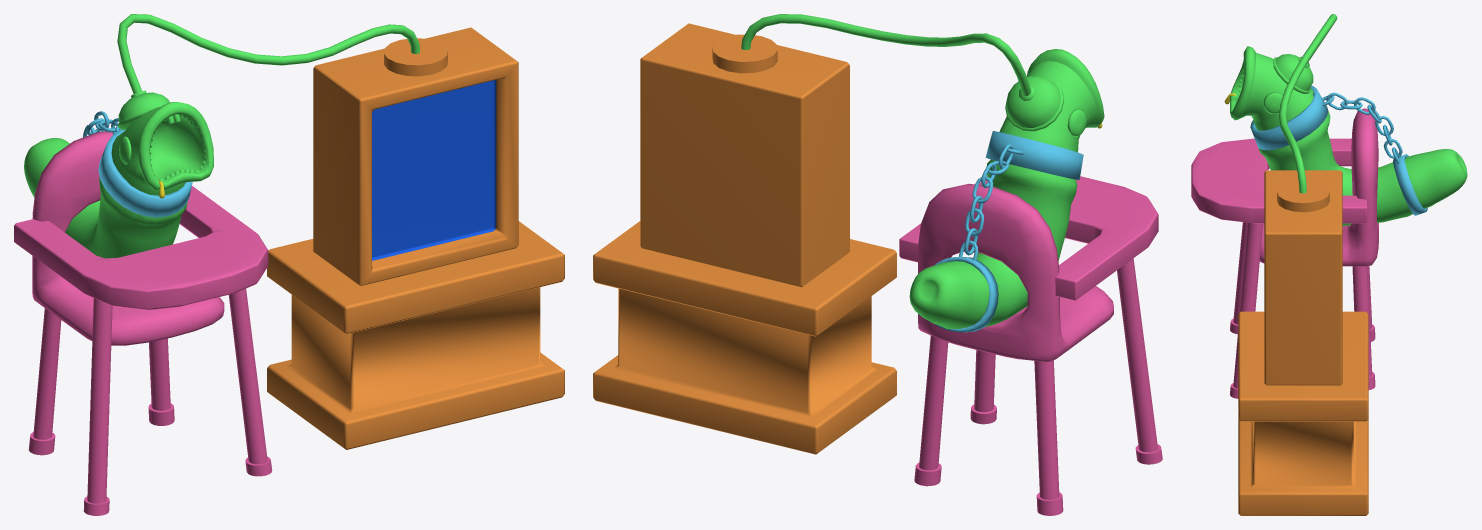
File: NutrientBaby.fbx
The picture shows the model from 3 angles, left to right: view 1: azimuth 30°, elevation 25°; view 2: azimuth 150°, elevation 25°; view 3: azimuth 270°, elevation 25°; orthographic projection. The views are drawn at different scales.
Visible parts, largest first — view 1: Cube.013, Chair_Base, Baby; view 2: Cube.013, Chair_Base, Baby; view 3: Cube.013, Baby, Chair_Base.
Part boxes in pixels (x1,y1,x2,y2): Cube.013: (267,27,564,449); Chair_Base: (14,131,272,515); Baby: (24,14,447,258); Cube.013: (593,23,896,454); Chair_Base: (899,176,1162,515); Baby: (712,14,1104,332); Cube.013: (1238,170,1368,515); Baby: (1224,14,1467,225); Chair_Base: (1191,108,1378,398).
Bounding box in the file's own units: 3.47 × 2.99 × 2.12.
